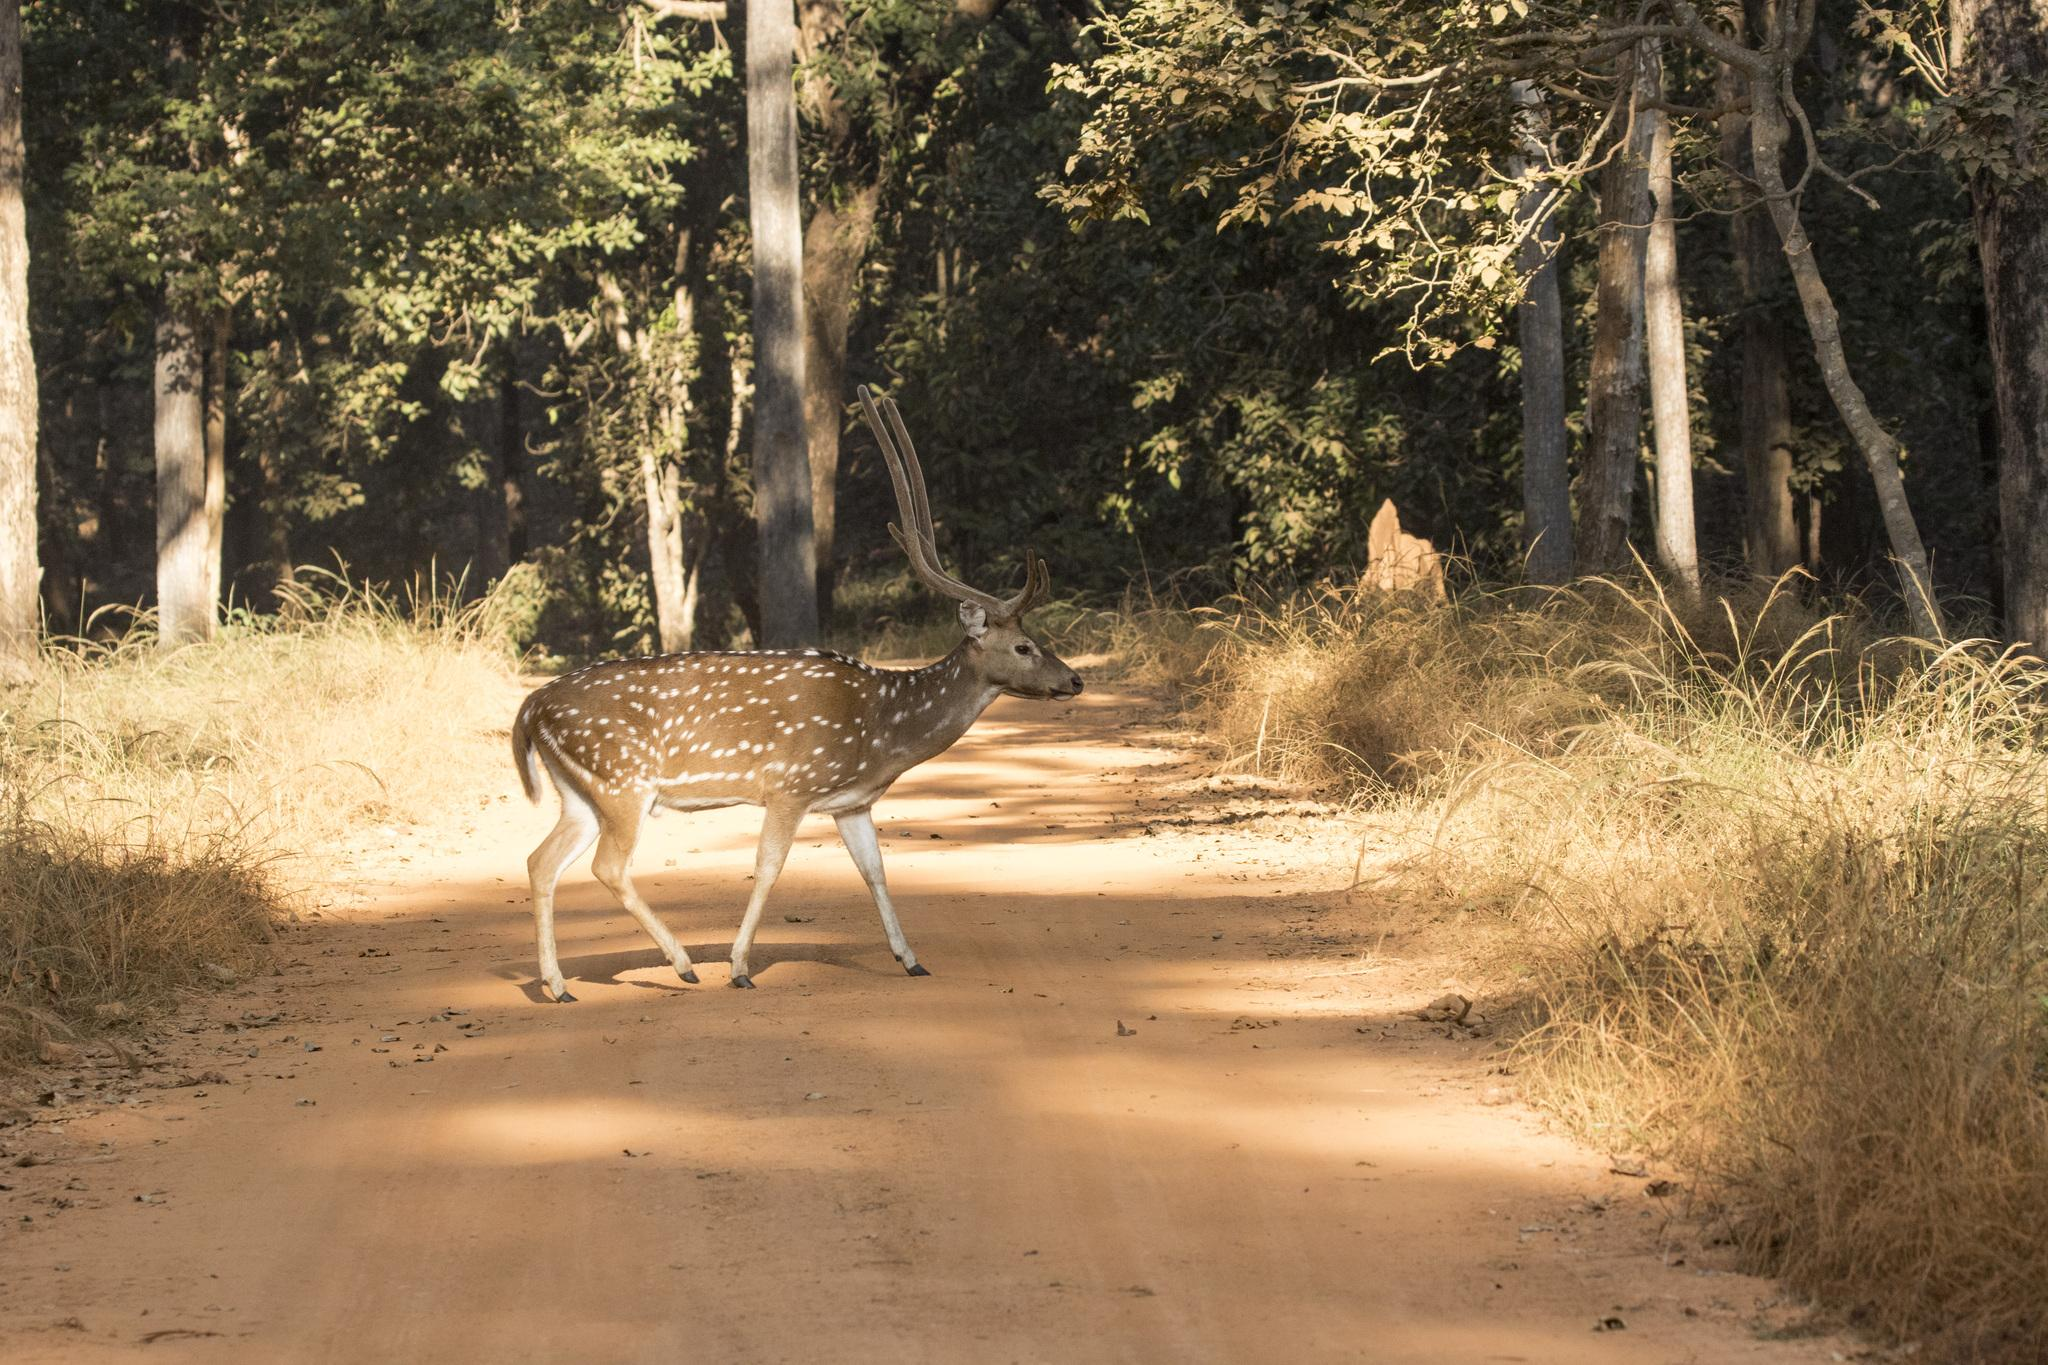Deer: (512, 385, 1083, 999)
